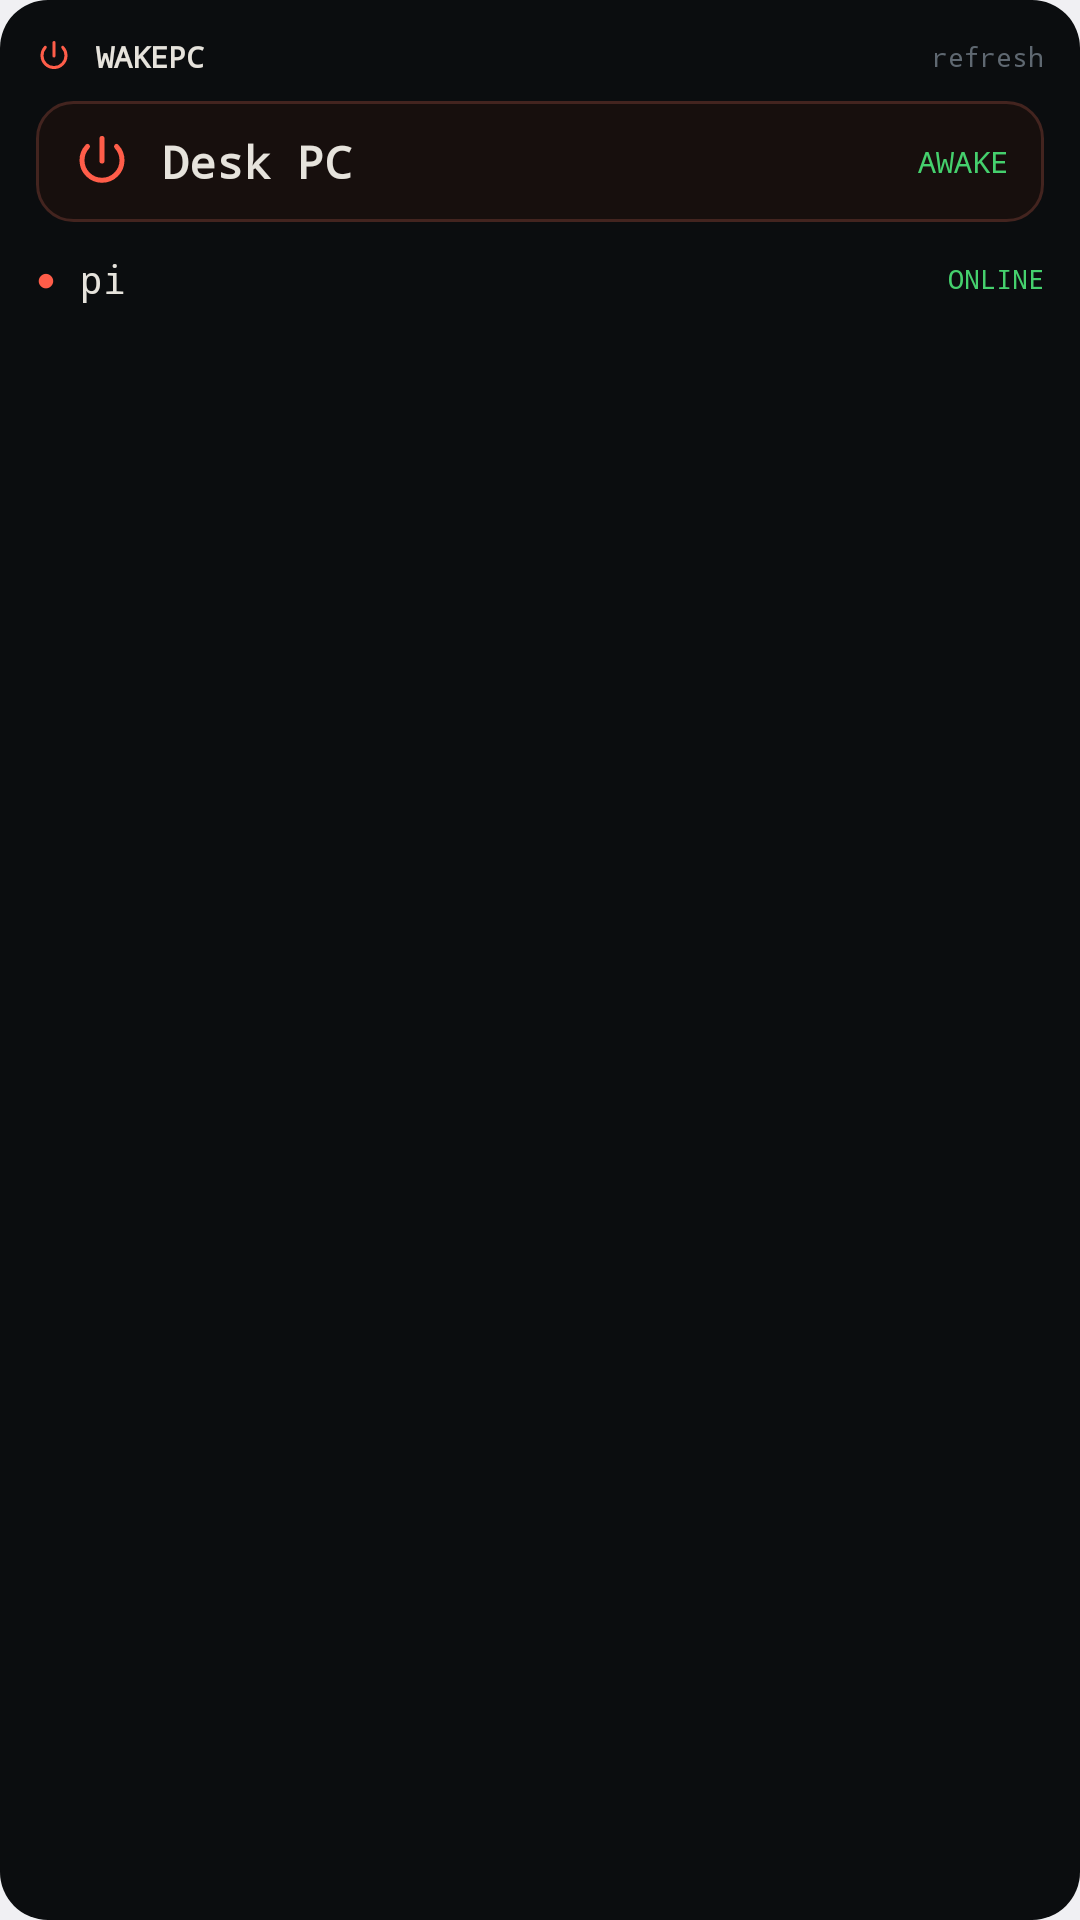

Point at icon controls on the screen. Image size 1080 × 1920, points as point (x, y).
power stroke: point (54, 55), point (102, 159)
